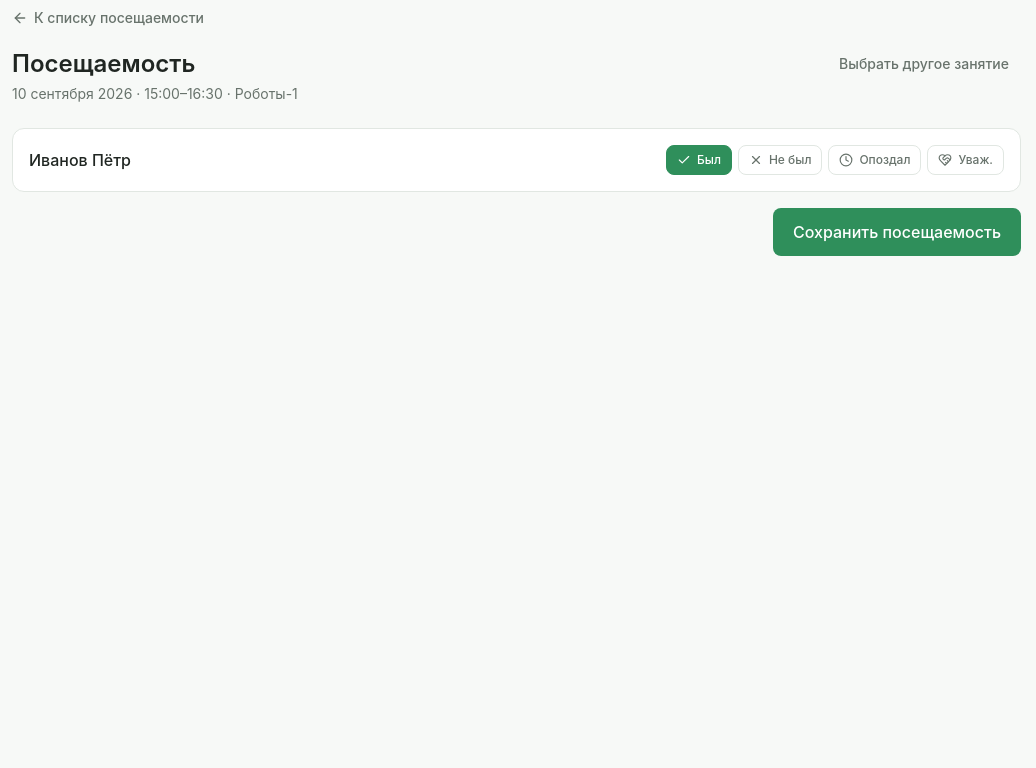
Test: AttendancePage › shows the backend error message when the save is refused
Expected: the text "Иванов Пётр" is shown, [29, 148, 131, 172]
Click the button "Сохранить посещаемость": x=897, y=232 [773, 208, 1021, 256]
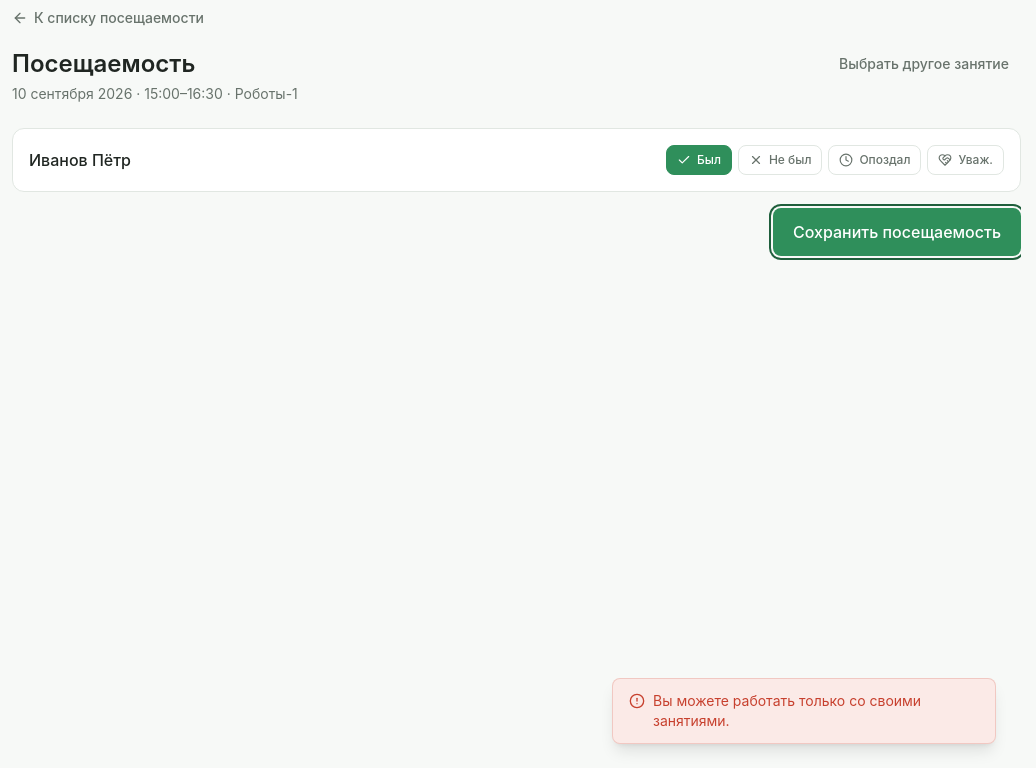
Now the text "Вы можете работать только со своими занятиями." is shown, box [653, 692, 921, 729]
